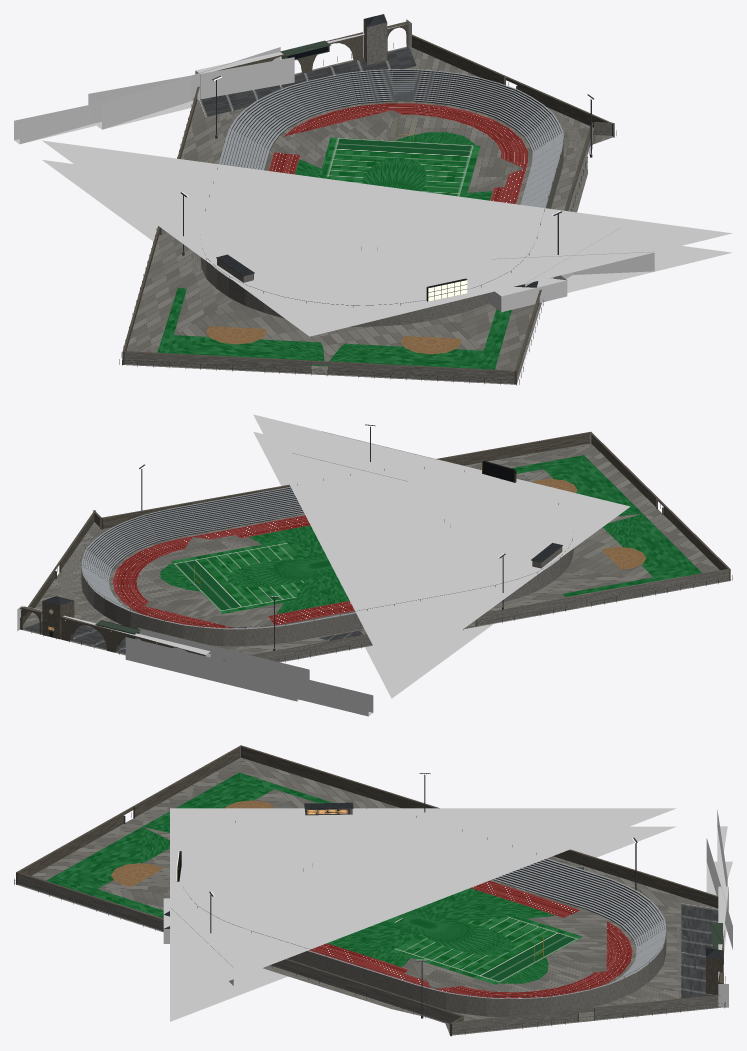
Rendered from newark-schools-stadium.glb.
The picture shows the model from 3 angles, top to bottom: view 1: azimuth 30°, elevation 25°; view 2: azimuth 150°, elevation 25°; view 3: azimuth 270°, elevation 25°; orthographic projection. The views are drawn at different scales.
Parts seen in each view (by area): view 1: body-lod0, newark-schools-stadium_COL; view 2: body-lod0, newark-schools-stadium_COL; view 3: body-lod0, newark-schools-stadium_COL.
Boxes of the visible parts, left/top/right/bottom form: body-lod0: left=119, top=14, right=616, bottom=385; newark-schools-stadium_COL: left=14, top=19, right=732, bottom=336; body-lod0: left=19, top=424, right=732, bottom=662; newark-schools-stadium_COL: left=17, top=414, right=630, bottom=716; body-lod0: left=14, top=745, right=725, bottom=1036; newark-schools-stadium_COL: left=163, top=808, right=732, bottom=1021.
Size of what is drawn, in the model's own units: 252 by 24.15 by 274.
Materials: 4 (2 with a texture image).
